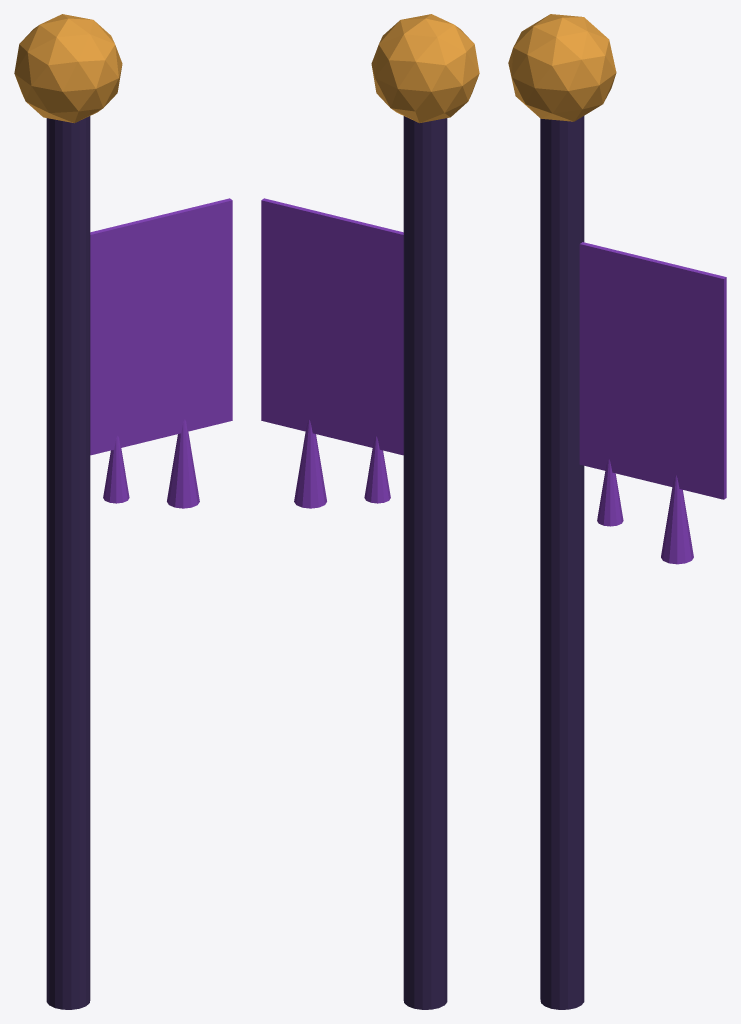
Rendered from abyssal-banner.glb.
3 renders of one model, left to right at view 1: azimuth 30°, elevation 25°; view 2: azimuth 150°, elevation 25°; view 3: azimuth 330°, elevation 25°, orthographic.
Parts seen in each view (by area): view 1: banner-pole, banner-cloth, banner-finial, banner-tassel-0, banner-tassel-1; view 2: banner-pole, banner-cloth, banner-finial, banner-tassel-0, banner-tassel-1; view 3: banner-pole, banner-cloth, banner-finial, banner-tassel-0, banner-tassel-1.
Part boxes in pixels (x1,y1,x2,y2): banner-pole: [46, 116, 90, 1009]; banner-cloth: [90, 198, 232, 455]; banner-finial: [14, 14, 122, 123]; banner-tassel-0: [167, 419, 199, 508]; banner-tassel-1: [103, 436, 129, 503]; banner-pole: [403, 116, 447, 1009]; banner-cloth: [261, 198, 403, 455]; banner-finial: [371, 14, 479, 123]; banner-tassel-0: [294, 419, 326, 508]; banner-tassel-1: [364, 436, 390, 503]; banner-pole: [540, 116, 584, 1009]; banner-cloth: [579, 242, 726, 499]; banner-finial: [508, 14, 616, 121]; banner-tassel-0: [661, 475, 693, 564]; banner-tassel-1: [597, 459, 623, 526].
Size of the model in its own units: 0.2176 by 0.98 by 0.1.
